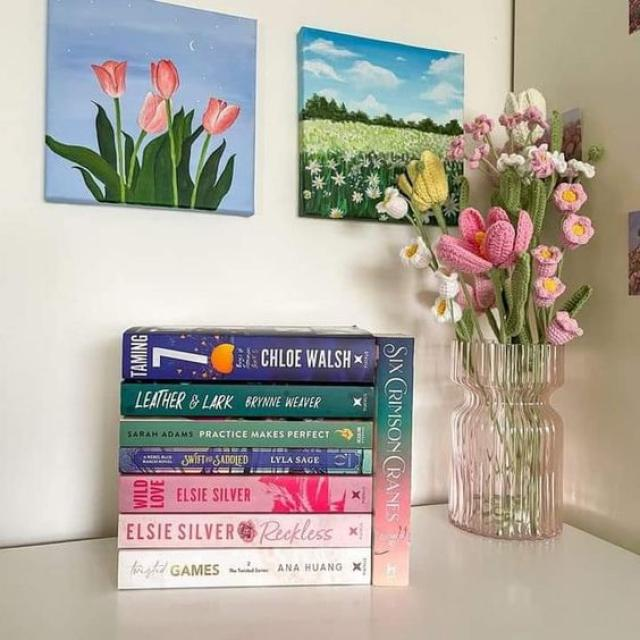book: (121, 328, 378, 384), (371, 337, 412, 586), (119, 549, 369, 589), (120, 475, 371, 512), (119, 514, 370, 548), (121, 384, 371, 416), (120, 419, 372, 448), (119, 448, 368, 473)
flowers: (378, 89, 593, 538)
